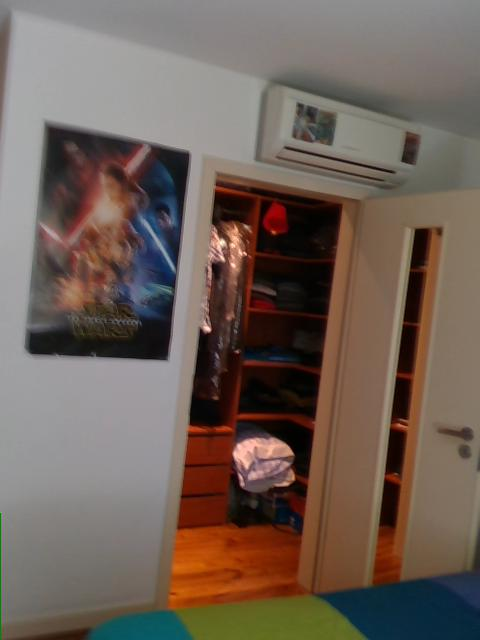door: (318, 190, 480, 590)
